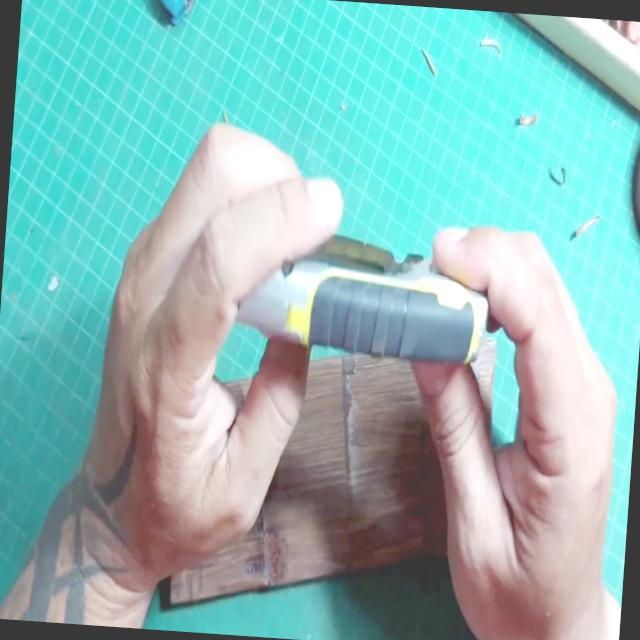cutter: (105, 114, 618, 599)
